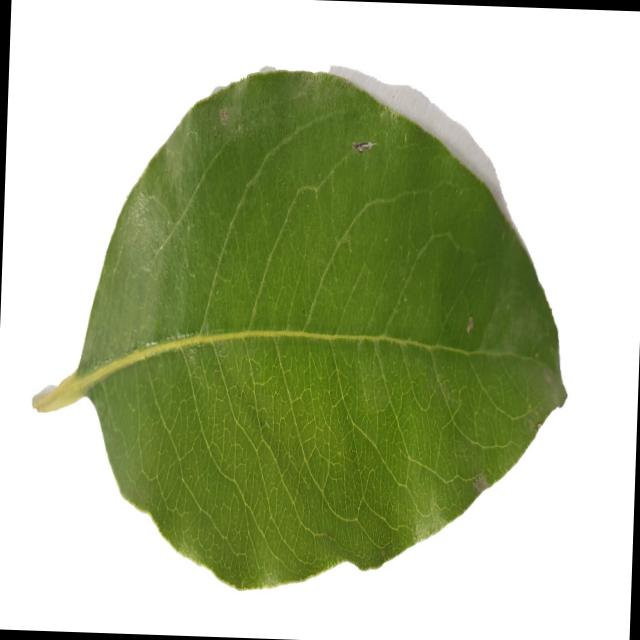Medicinal-Sandalwood: (25, 57, 578, 606)
